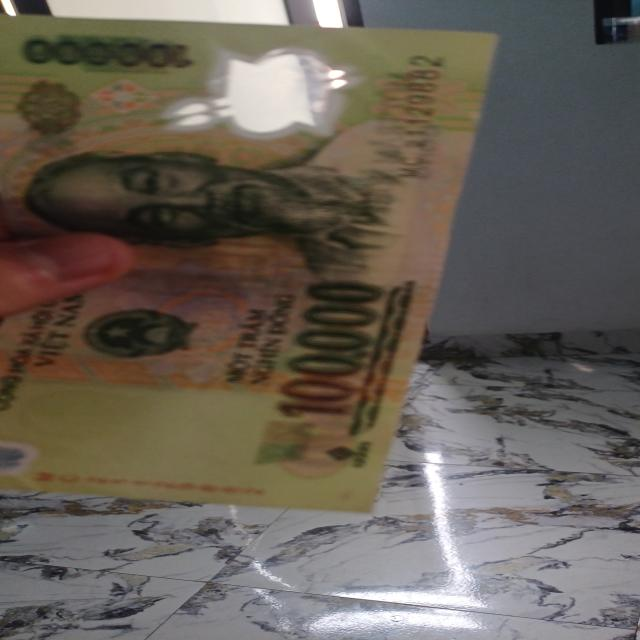100 000 VND: (0, 11, 504, 516)
